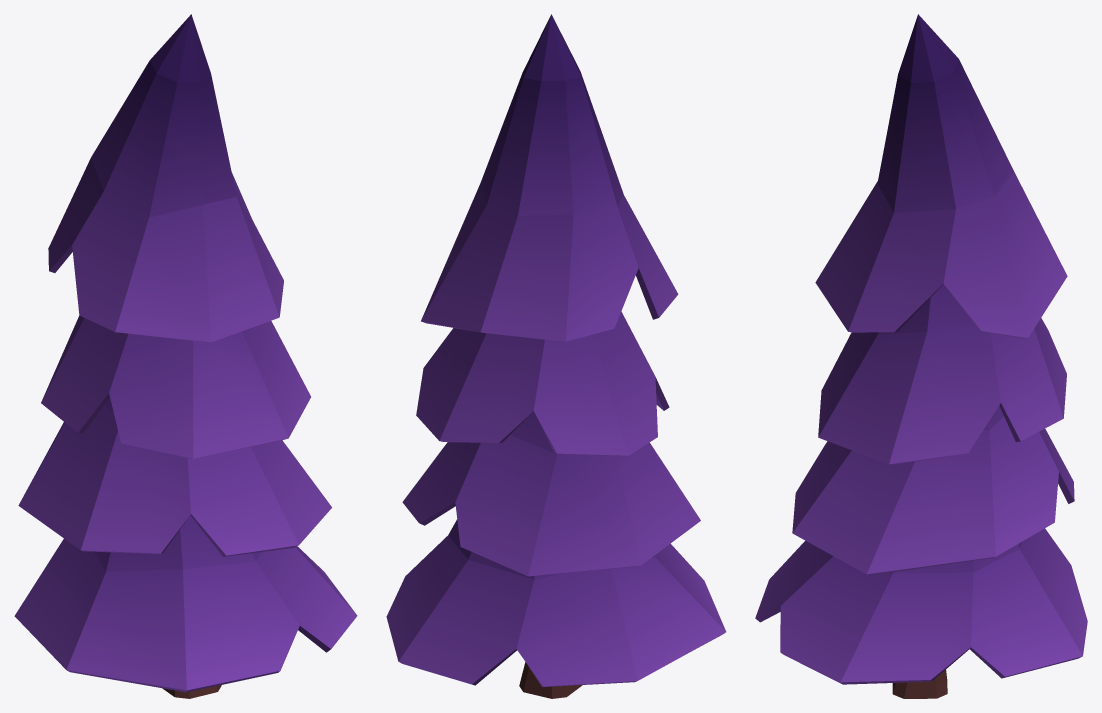
File: MagicPine6.fbx
3 views of the same model, side by side, from view 1: azimuth 30°, elevation 25°; view 2: azimuth 150°, elevation 25°; view 3: azimuth 270°, elevation 25° (orthographic).
Parts seen in each view (by area): view 1: MagicPine6; view 2: MagicPine6; view 3: MagicPine6.
Part boxes in pixels (x1,y1,x2,y2): MagicPine6: (14, 14, 357, 698); MagicPine6: (386, 14, 726, 698); MagicPine6: (755, 14, 1087, 698).
Size of the model in its own units: 499 by 1107 by 495.
